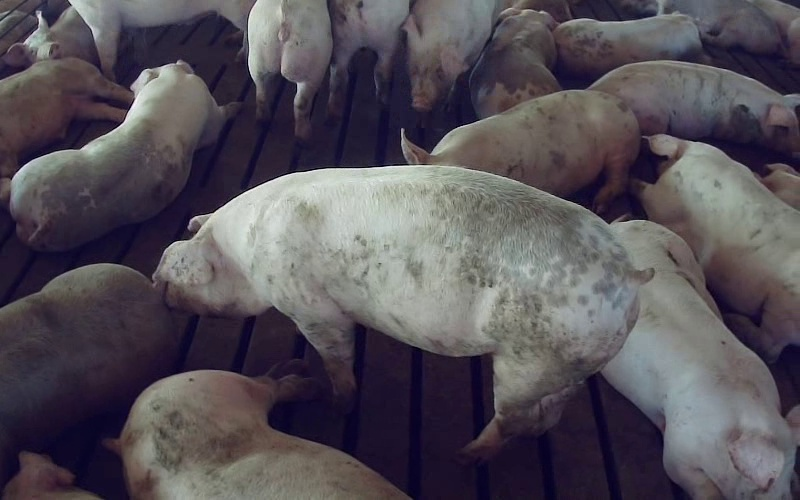pig: (153, 166, 650, 461), (602, 221, 799, 499), (10, 61, 238, 250), (115, 360, 408, 499), (0, 264, 179, 489), (633, 134, 799, 361), (401, 90, 639, 212), (589, 61, 799, 156), (0, 57, 132, 204), (248, 0, 332, 141), (470, 8, 560, 118), (553, 14, 701, 77), (3, 6, 98, 67)
